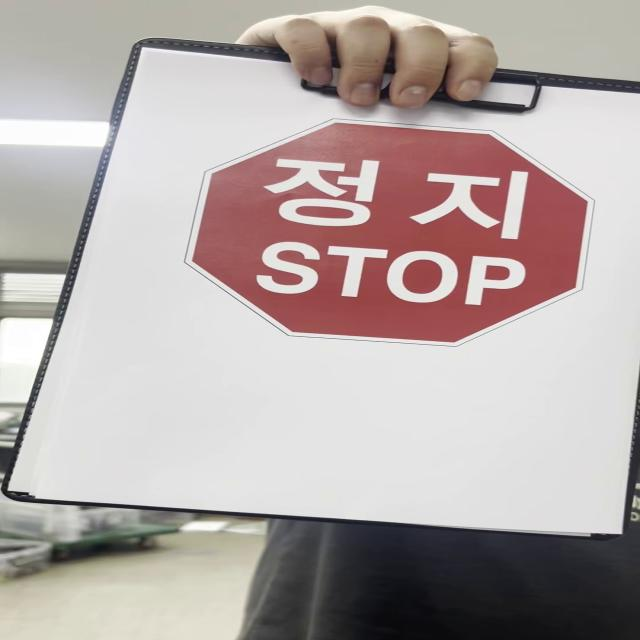stop: (188, 122, 595, 348)
